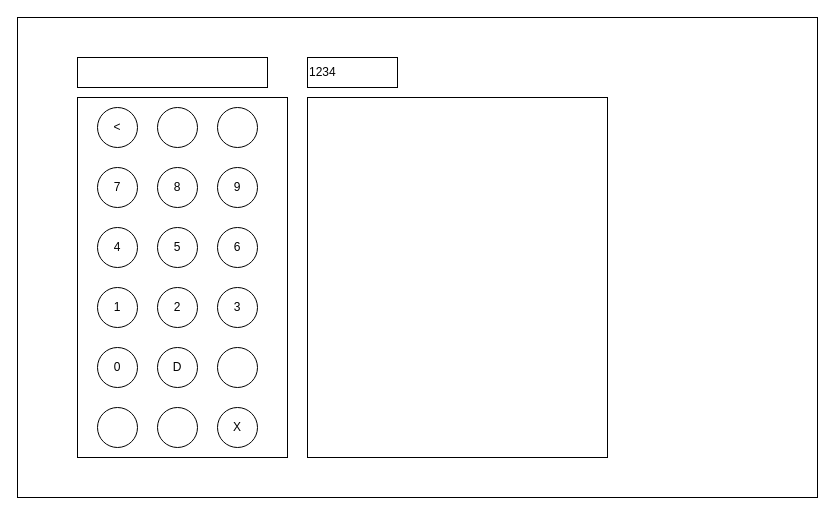
Some shapes in this 835 by 515 pixel diagram are drawn without their labels. Each missing label, with the box of its shape:
Direct Frequency Entry instructions: (306, 96, 608, 458)
Enter Frequency (kHz or MHz):: (76, 56, 268, 88)
